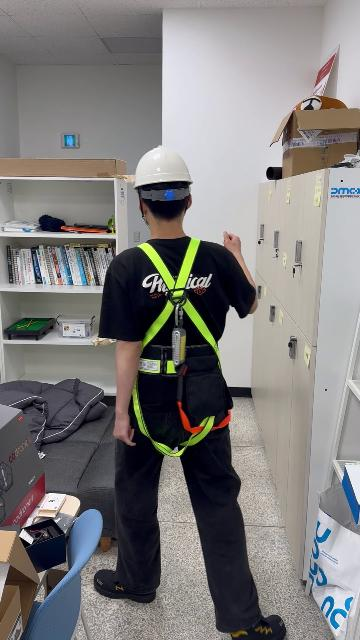helmet_worn: (131, 147, 196, 205)
shoe_worn: (94, 566, 158, 603), (230, 614, 288, 640)
vest_worn: (114, 239, 238, 436)
